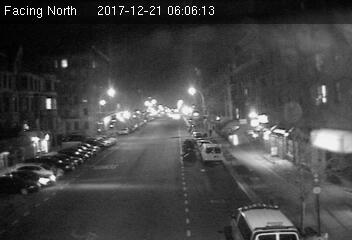police: (230, 202, 312, 240)
truck: (202, 144, 222, 163)
